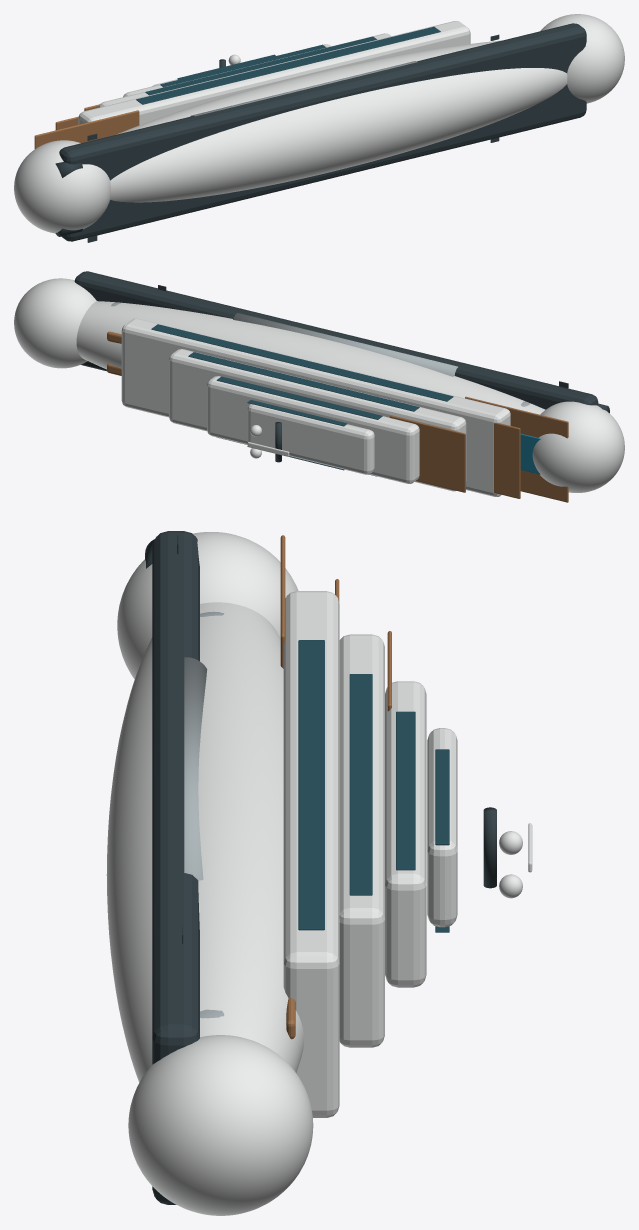
The model's file is ATLAS_D_272.glb.
The picture shows the model from 3 angles, top to bottom: view 1: azimuth 30°, elevation 25°; view 2: azimuth 150°, elevation 25°; view 3: azimuth 270°, elevation 25°; orthographic projection. The views are drawn at different scales.
Parts seen in each view (by area): view 1: OuterHull_Main, LowerHull_Fairing, Stern_Fairing, Superstructure_0, Bow_Fairing, Glass_0_1, Terrace_0, Glass_1_1, Glass_2_1, UtilityPressure_4.7, Superstructure_1; view 2: Superstructure_0, OuterHull_Main, LowerHull_Fairing, Superstructure_2, Superstructure_1, Stern_Fairing, Bow_Fairing, Superstructure_3, Terrace_2, Glass_0_1, Terrace_0, Terrace_1 (+5 smaller); view 3: OuterHull_Main, Bow_Fairing, LowerHull_Fairing, Superstructure_0, Superstructure_1, Superstructure_2, Stern_Fairing, Glass_0_1, Glass_1_1, Superstructure_3, UtilityPressure_4.7, Glass_2_1 (+2 smaller).
Part boxes in pixels (bbox=[...]): OuterHull_Main: bbox=[110, 40, 567, 202]; LowerHull_Fairing: bbox=[59, 23, 586, 241]; Stern_Fairing: bbox=[14, 140, 110, 233]; Superstructure_0: bbox=[78, 21, 470, 125]; Bow_Fairing: bbox=[540, 14, 624, 103]; Glass_0_1: bbox=[136, 26, 440, 104]; Terrace_0: bbox=[34, 110, 139, 148]; Glass_1_1: bbox=[145, 36, 376, 95]; Glass_2_1: bbox=[160, 44, 326, 87]; UtilityPressure_4.7: bbox=[190, 61, 417, 116]; Superstructure_1: bbox=[98, 33, 391, 107]; Superstructure_0: bbox=[121, 318, 510, 496]; OuterHull_Main: bbox=[76, 301, 545, 414]; LowerHull_Fairing: bbox=[74, 271, 598, 409]; Superstructure_2: bbox=[207, 376, 419, 483]; Superstructure_1: bbox=[169, 349, 466, 491]; Stern_Fairing: bbox=[532, 401, 624, 492]; Bow_Fairing: bbox=[14, 278, 96, 368]; Superstructure_3: bbox=[247, 404, 374, 474]; Terrace_2: bbox=[389, 415, 465, 492]; Glass_0_1: bbox=[151, 324, 453, 401]; Terrace_0: bbox=[465, 396, 568, 502]; Terrace_1: bbox=[494, 422, 520, 498]; OuterHull_Main: bbox=[106, 602, 303, 1082]; Bow_Fairing: bbox=[128, 1035, 313, 1215]; LowerHull_Fairing: bbox=[152, 531, 199, 1204]; Superstructure_0: bbox=[283, 591, 339, 1117]; Superstructure_1: bbox=[339, 634, 384, 1047]; Superstructure_2: bbox=[385, 681, 426, 987]; Stern_Fairing: bbox=[117, 532, 298, 679]; Glass_0_1: bbox=[298, 640, 324, 930]; Glass_1_1: bbox=[349, 674, 372, 895]; Superstructure_3: bbox=[427, 728, 457, 927]; UtilityPressure_4.7: bbox=[184, 657, 207, 880]; Glass_2_1: bbox=[396, 711, 415, 870].
Size of the model in its own units: 86.4 by 14.7 by 26.68.
